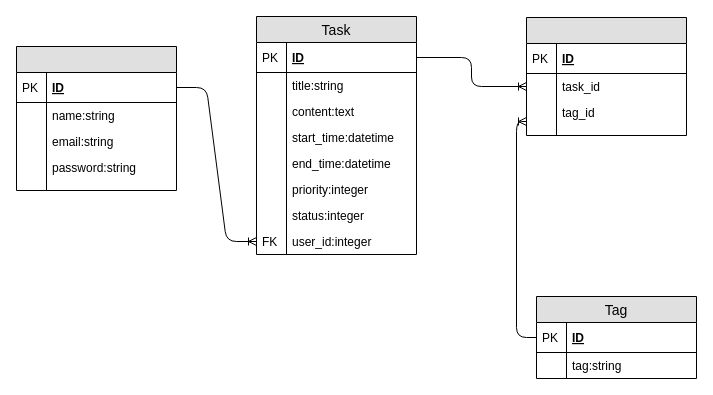
The diagram is 713 pixels wide and 395 high, and some of its shapes have lost their labels. Here are the shapes that lost their labels. From the top down, the box of each, then its label:
(526, 16, 686, 136): TaskTag
(16, 46, 176, 190): User
